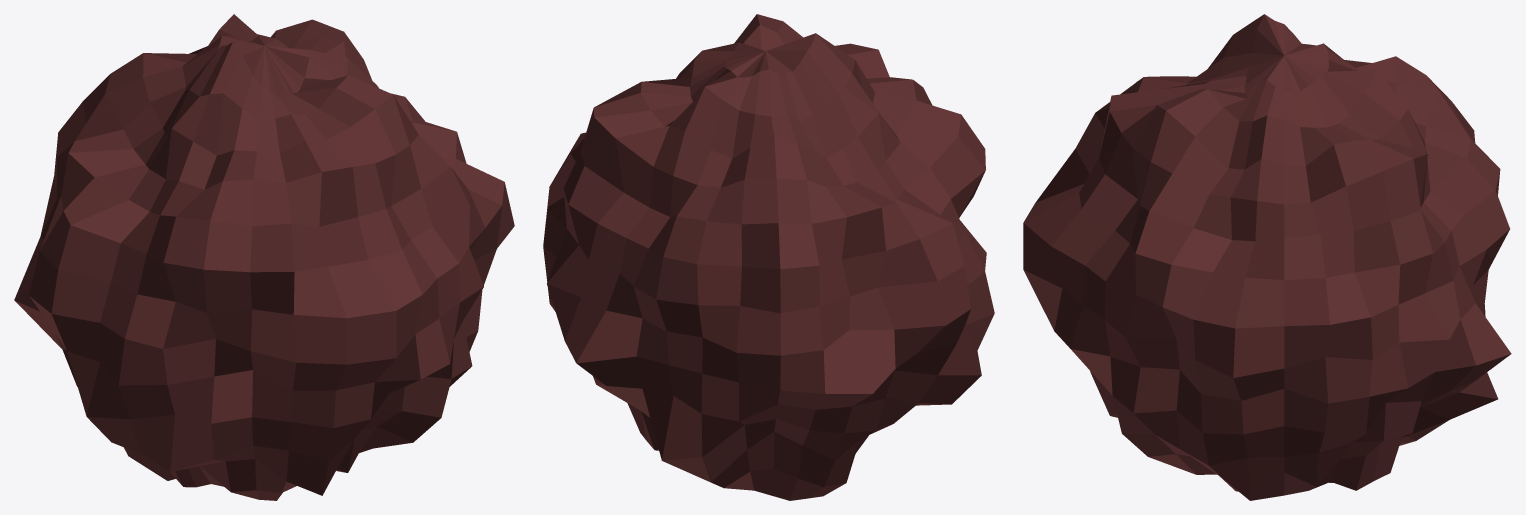
The model's file is beefthinf.fbx.
3 views of the same model, side by side, from view 1: azimuth 30°, elevation 25°; view 2: azimuth 150°, elevation 25°; view 3: azimuth 270°, elevation 25° (orthographic). The views are drawn at different scales.
Visible parts, largest first — view 1: beef; view 2: beef; view 3: beef.
Part boxes in pixels (x1,y1,x2,y2): beef: (14,14,514,500); beef: (543,14,994,500); beef: (1023,14,1511,500).
Bounding box in the file's own units: 228 × 225 × 222.
